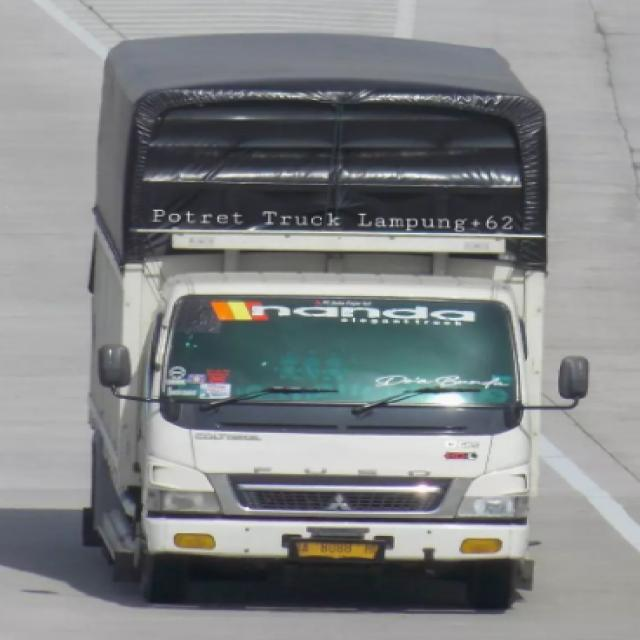Truck: (79, 23, 602, 613)
